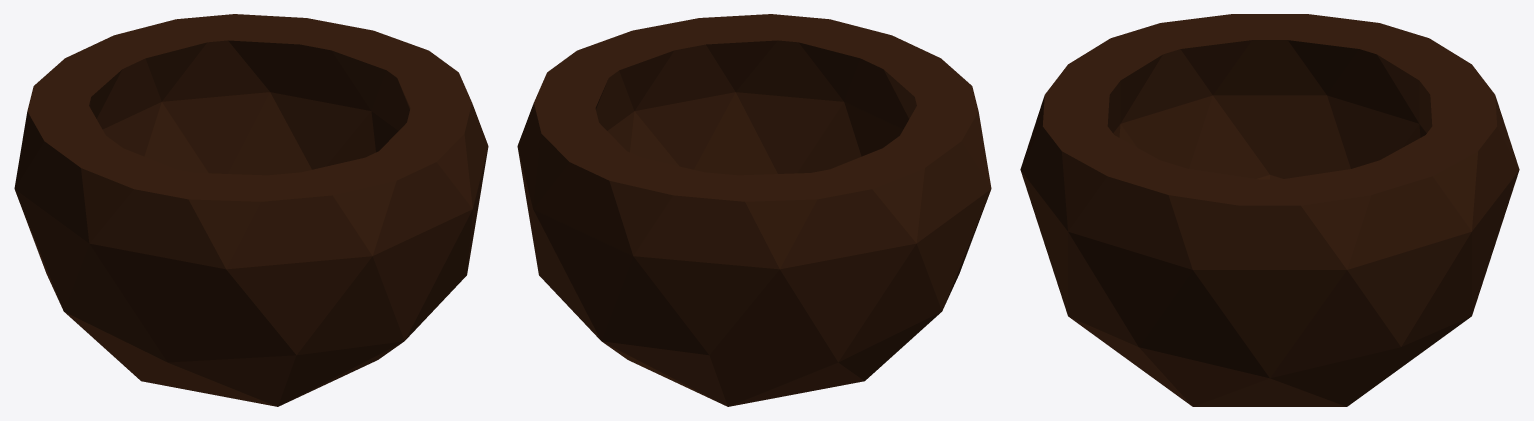
File: coconut0.obj
The picture shows the model from 3 angles, left to right: view 1: azimuth 30°, elevation 25°; view 2: azimuth 150°, elevation 25°; view 3: azimuth 270°, elevation 25°; orthographic projection. The views are drawn at different scales.
Parts seen in each view (by area): view 1: Icosphere_Icosphere.035; view 2: Icosphere_Icosphere.035; view 3: Icosphere_Icosphere.035.
Part boxes in pixels (x1,y1,x2,y2): Icosphere_Icosphere.035: [14, 14, 488, 406]; Icosphere_Icosphere.035: [517, 14, 991, 406]; Icosphere_Icosphere.035: [1020, 14, 1519, 406].
Bounding box in the file's own units: 1.9 × 1.27 × 2.
